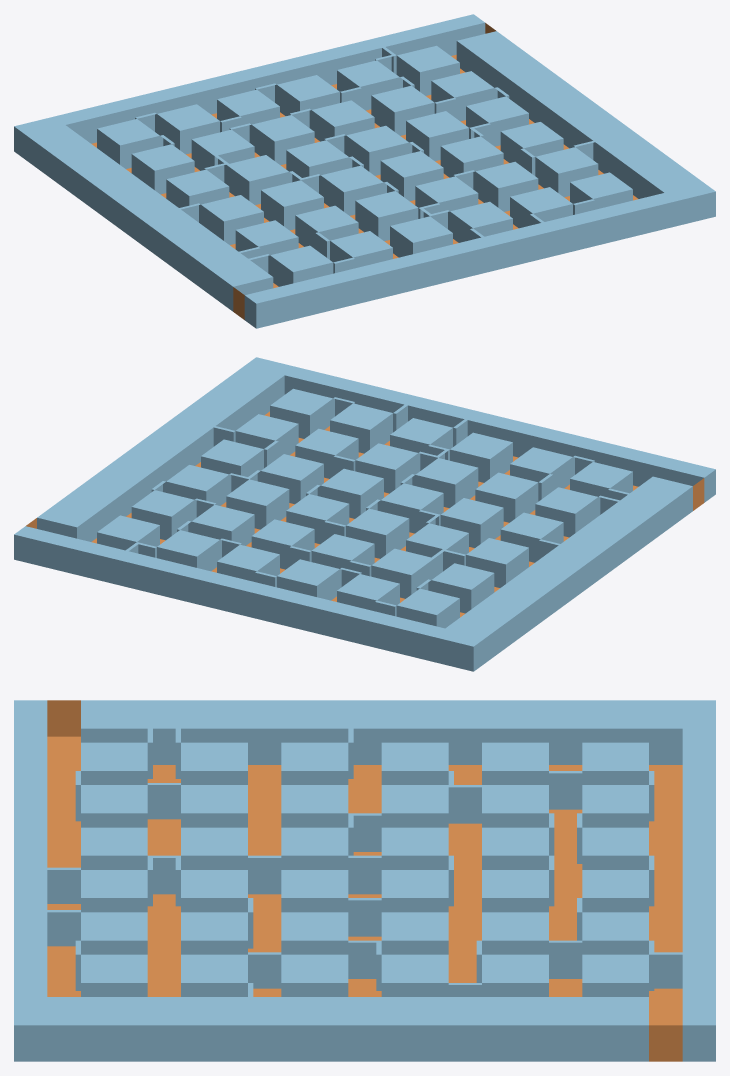
File: mazev9.dae
3 renders of one model, top to bottom at view 1: azimuth 30°, elevation 25°; view 2: azimuth 150°, elevation 25°; view 3: azimuth 270°, elevation 25°, orthographic. The views are drawn at different scales.
Visible parts, largest first — view 1: 平面; view 2: 平面; view 3: 平面.
Part boxes in pixels (x1,y1,x2,y2): 平面: (14, 14, 715, 328); 平面: (14, 357, 715, 671); 平面: (14, 700, 715, 1061).
Bounding box in the file's own units: 28.75 × 26.25 × 1.5.
